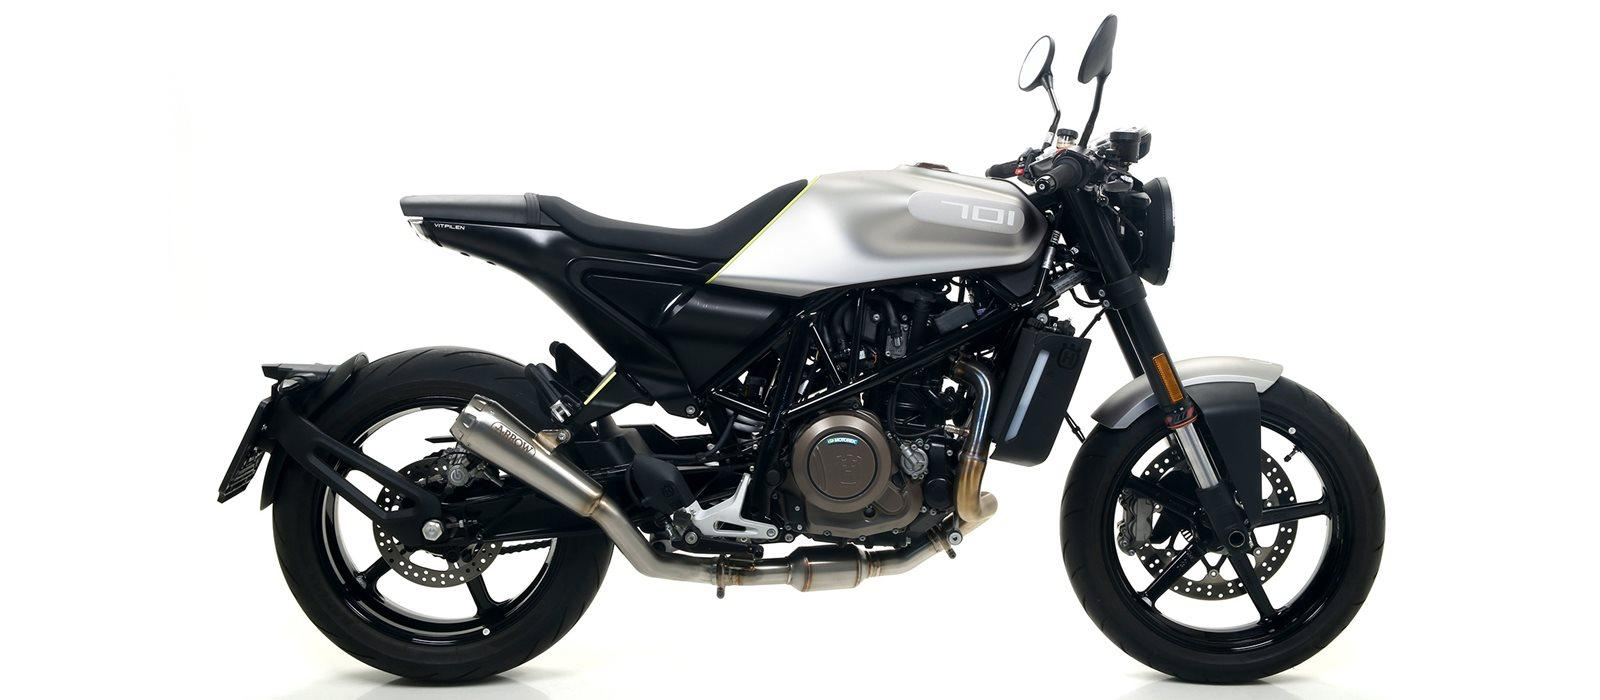engine-chasis: (666, 274, 1017, 558), (719, 372, 767, 408), (724, 406, 766, 444)
exhaust: (449, 352, 999, 600)
frontside: (959, 176, 1285, 560)
handlebar: (985, 13, 1153, 208)
motorbike: (217, 13, 1386, 682)
rearside: (404, 217, 856, 540), (217, 352, 606, 563)
seat: (399, 179, 808, 263)
tank: (705, 161, 1051, 300)
wheel: (1058, 376, 1387, 685), (271, 454, 615, 685), (308, 345, 559, 506), (650, 412, 739, 462), (1107, 204, 1144, 266), (483, 468, 532, 492), (499, 539, 552, 556), (1079, 309, 1108, 338), (582, 461, 633, 478), (1069, 287, 1101, 309), (1064, 411, 1086, 444)
